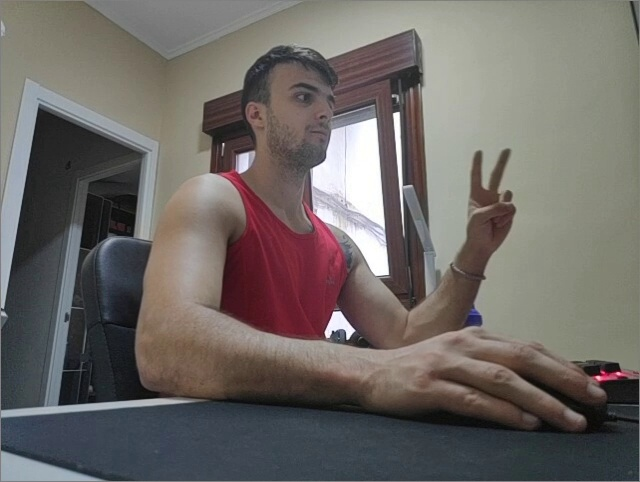Peace: (461, 146, 516, 248)
